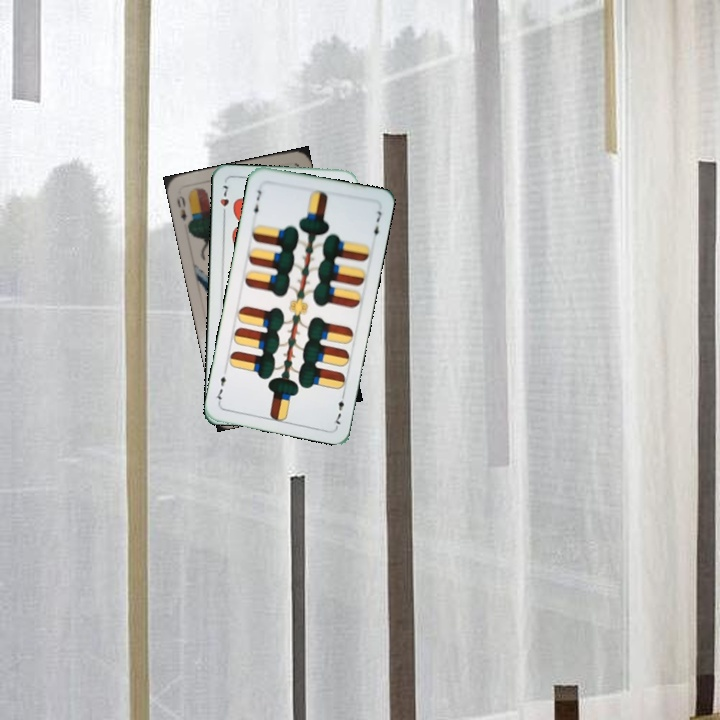E7: (331, 388, 348, 428), (248, 186, 264, 220)
EO: (173, 192, 196, 228)
H7: (216, 181, 231, 220)
